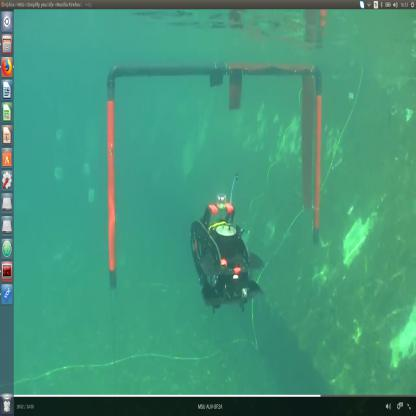gate: (103, 61, 327, 223)
